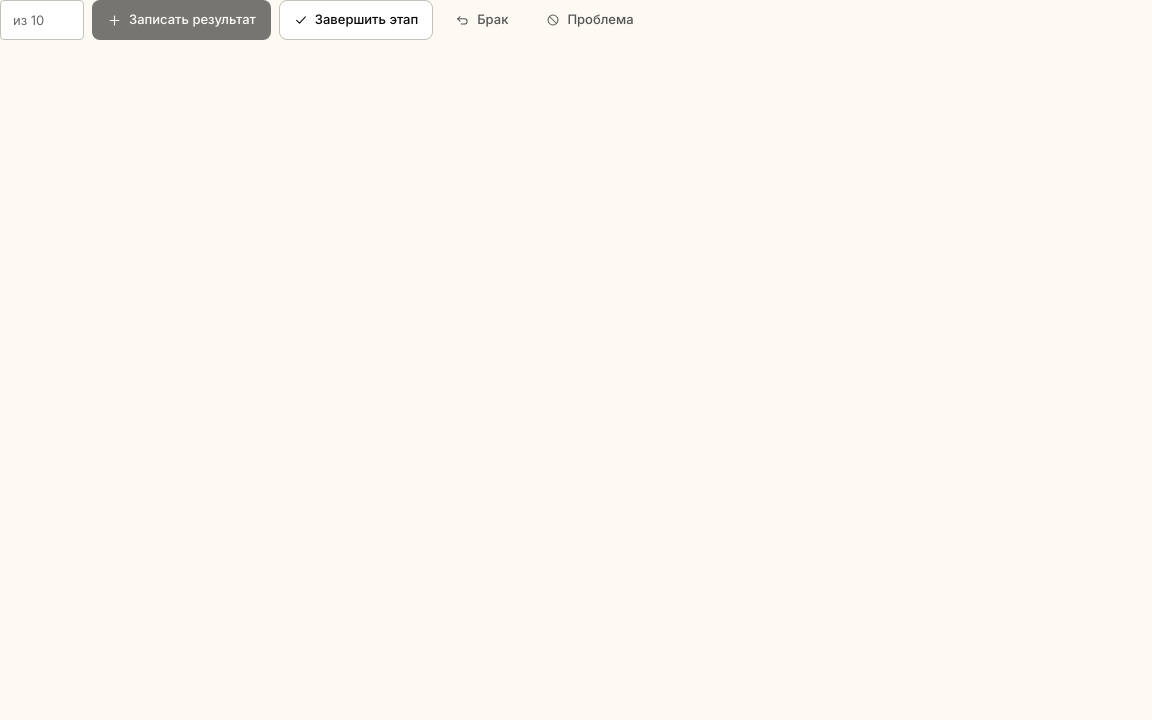
Scenario: StageActionsPanel — мастер брака › возврат «на закупку» форсит галку «нужен новый материал»
Click the button "Брак".
click(482, 20)  # box [441,0,523,40]
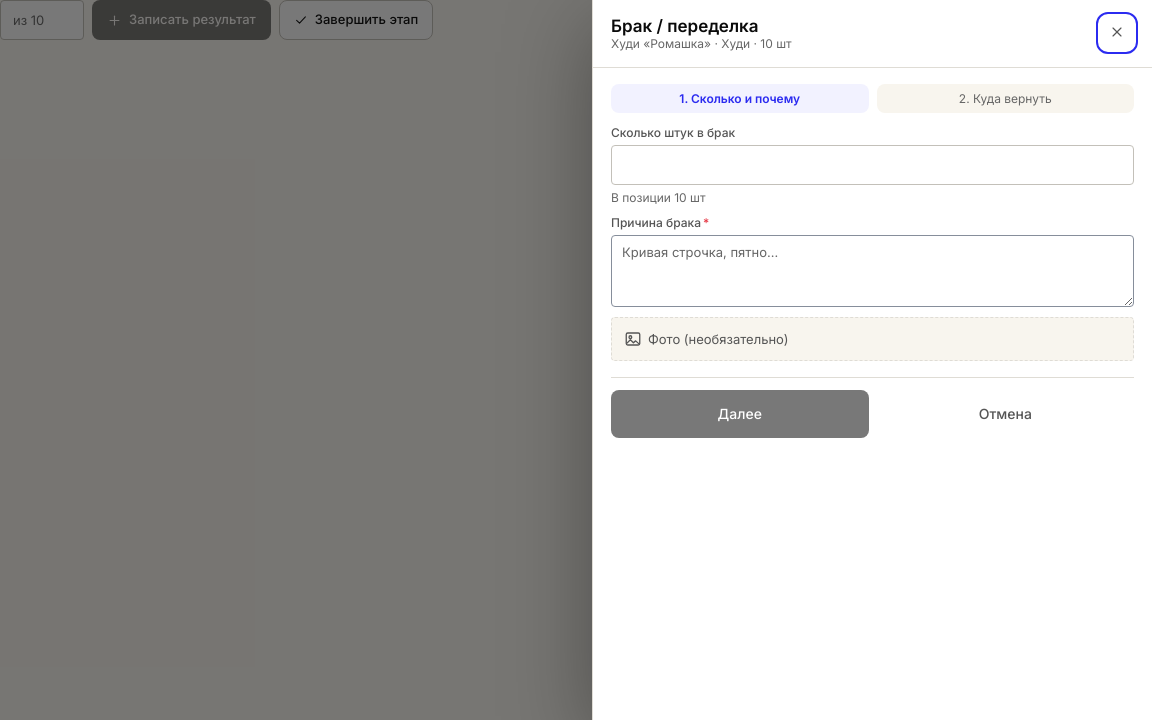
Type "1" into the number field labelled "Сколько штук в брак".
click(872, 165); type("1")  # box [611,145,1134,185]
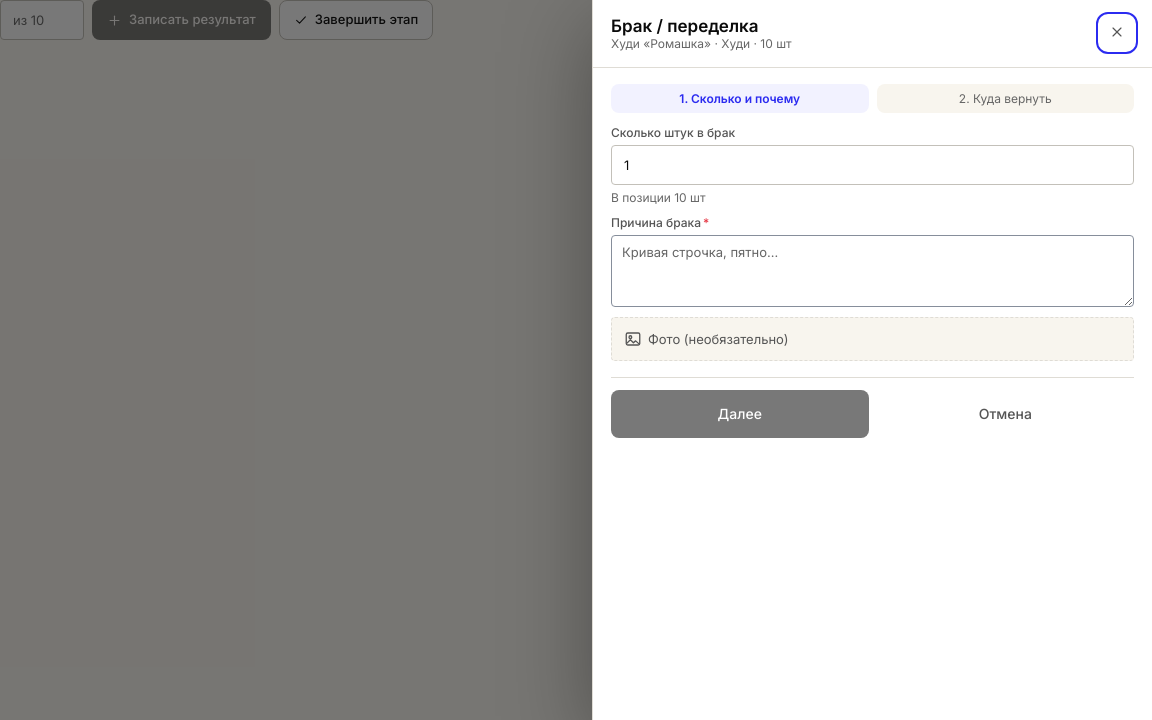
Type "Прожгли" into the text box labelled "Причина брака*".
click(872, 271); type("Прожгли")  # box [611,235,1134,307]
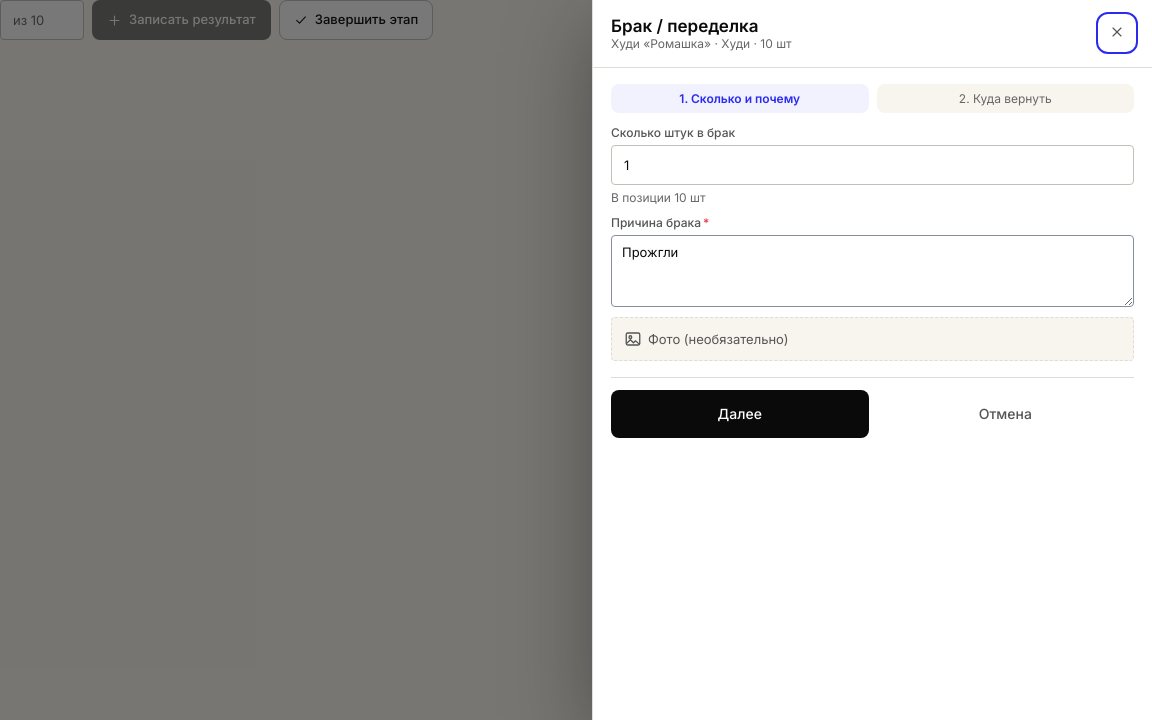
Click the button "Далее".
click(740, 414)  # box [611,390,868,438]
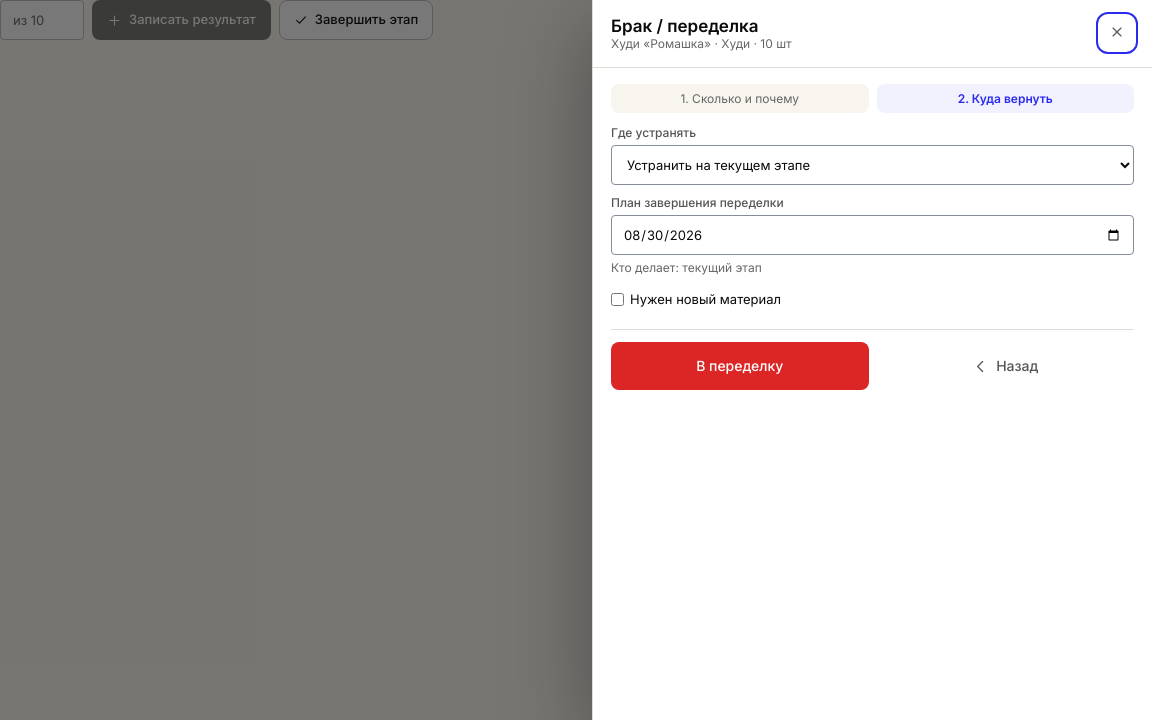
Expected: the checkbox labelled "Нужен новый материал" is not checked, [611,292,624,306]
Select "На закупку (материал испорчен)" in the dropdown labelled "Где устранять" at (872, 165), box [611,145,1134,185]
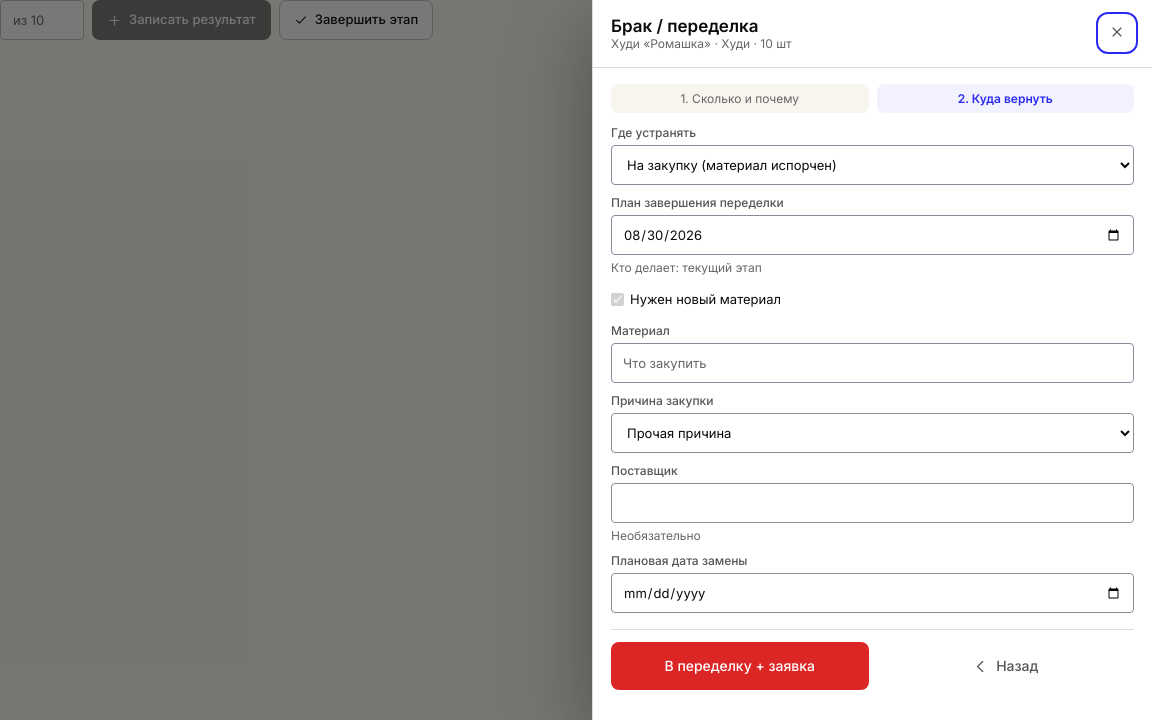
Expected: the checkbox labelled "Нужен новый материал" is checked, [611,292,624,306]
Expected: the checkbox labelled "Нужен новый материал" is disabled, [611,292,624,306]
